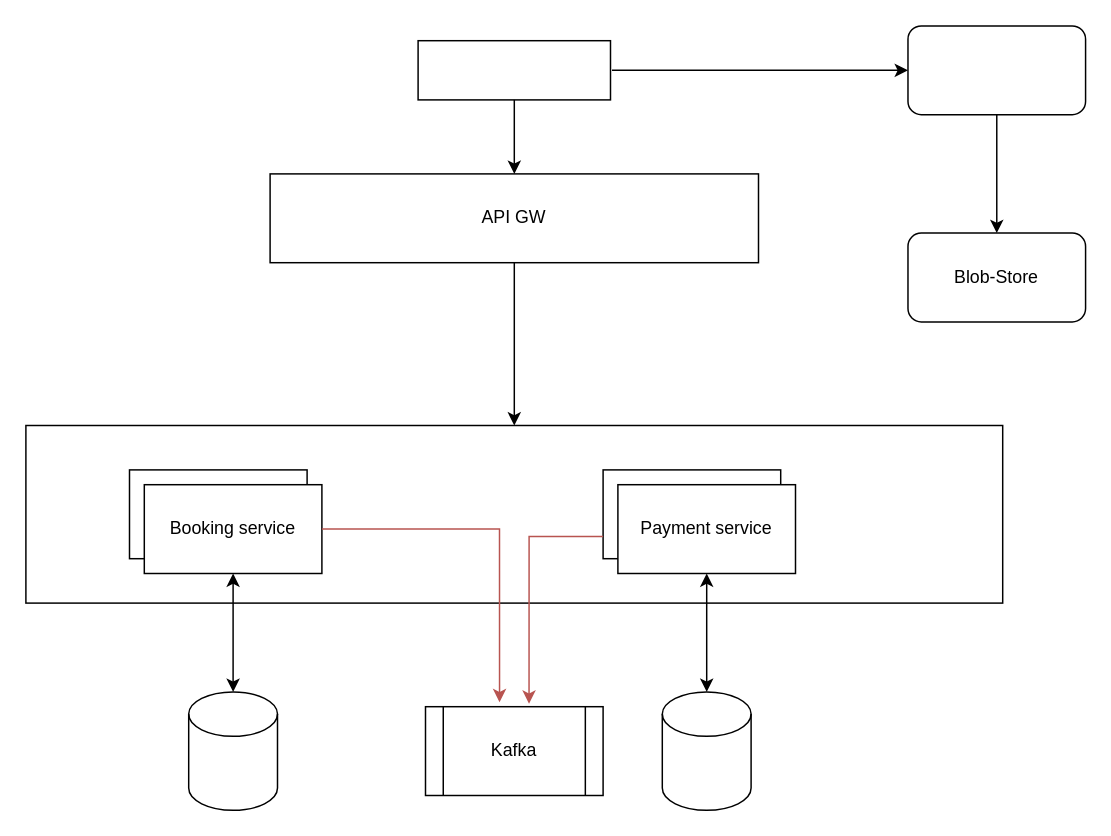
Some shapes in this 1111 by 836 pixel diagram are drawn without their labels. Here are the shapes that lost their labels. From the top down, the centre of each, then its label:
At point (513, 69): "Client".
At point (996, 69): "CDN".
At point (232, 750): "Bookings DB Posgress".
At point (706, 750): "Payements DB Mongo".
